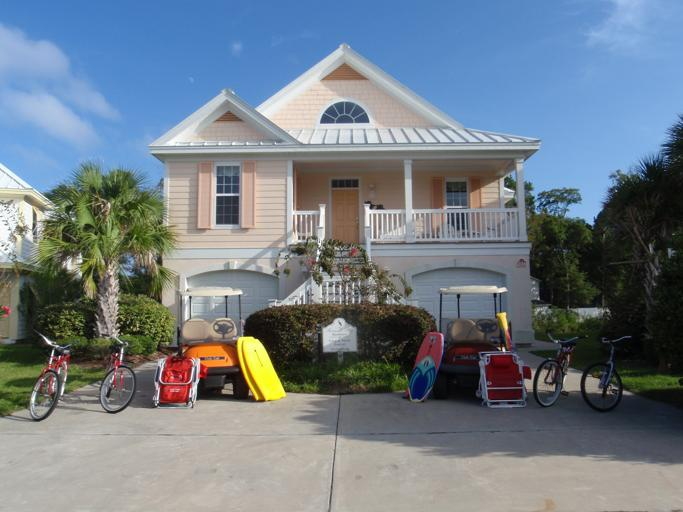non-vehicle: (532, 326, 589, 406), (579, 334, 636, 410), (27, 327, 71, 421), (98, 332, 135, 412)
